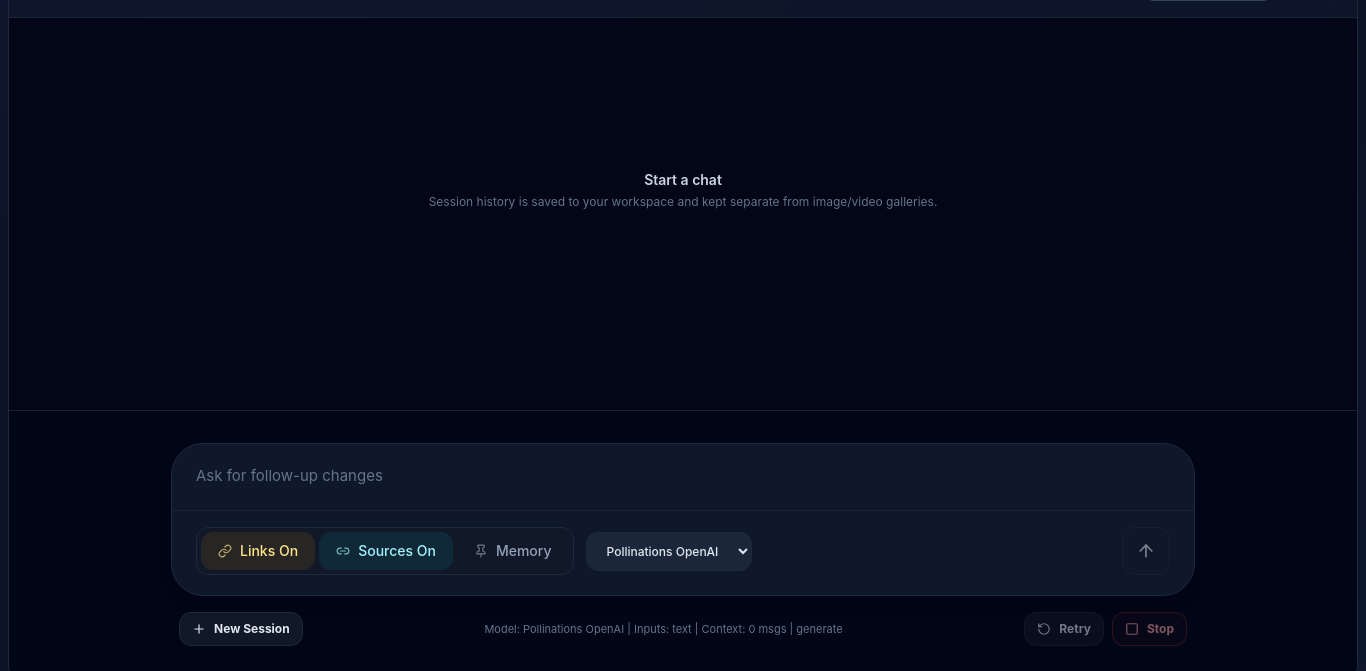
Test: AIChat formatted-response regressions › keeps session switching intact for formatted responses
(page scrolled)
Type "Session prompt" into the text box with placeholder "Ask for follow-up changes" at (683, 474), box left=172, top=444, right=1194, bottom=504
Then press Enter
(page scrolled)
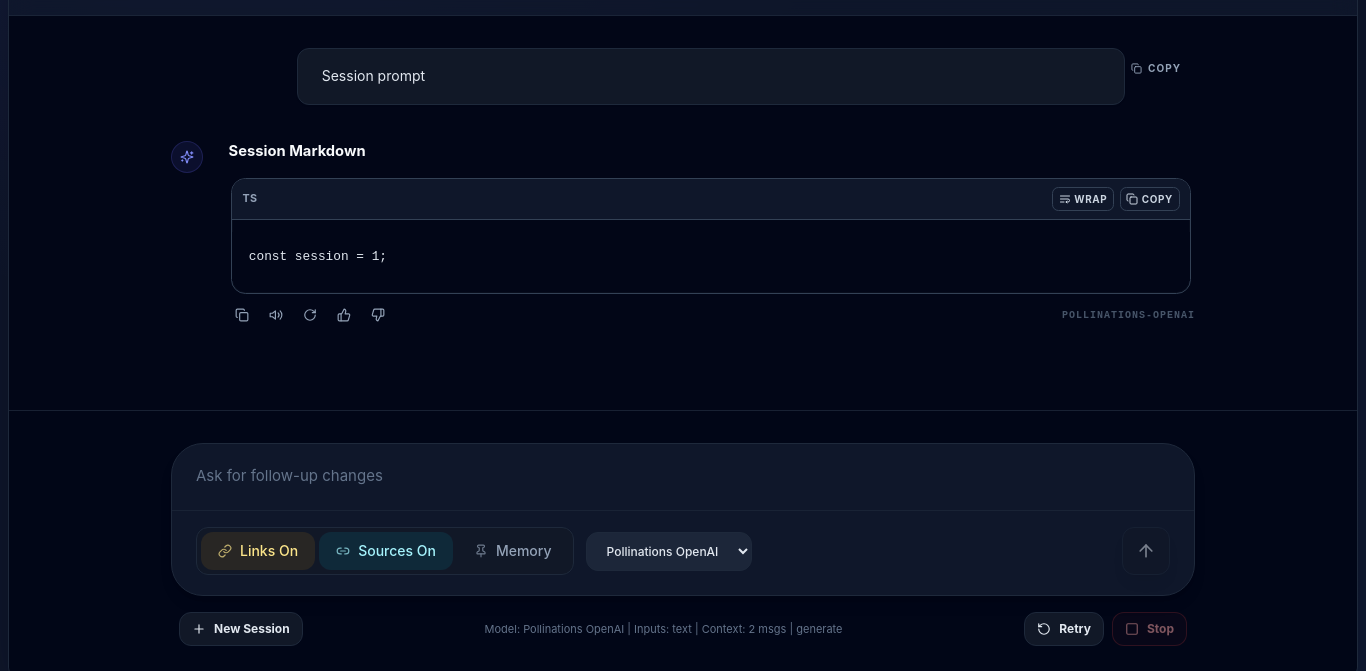
Now the text "Session Markdown" is shown, box left=229, top=142, right=366, bottom=160
Click the button "New Session" at (241, 629), box left=179, top=612, right=303, bottom=646
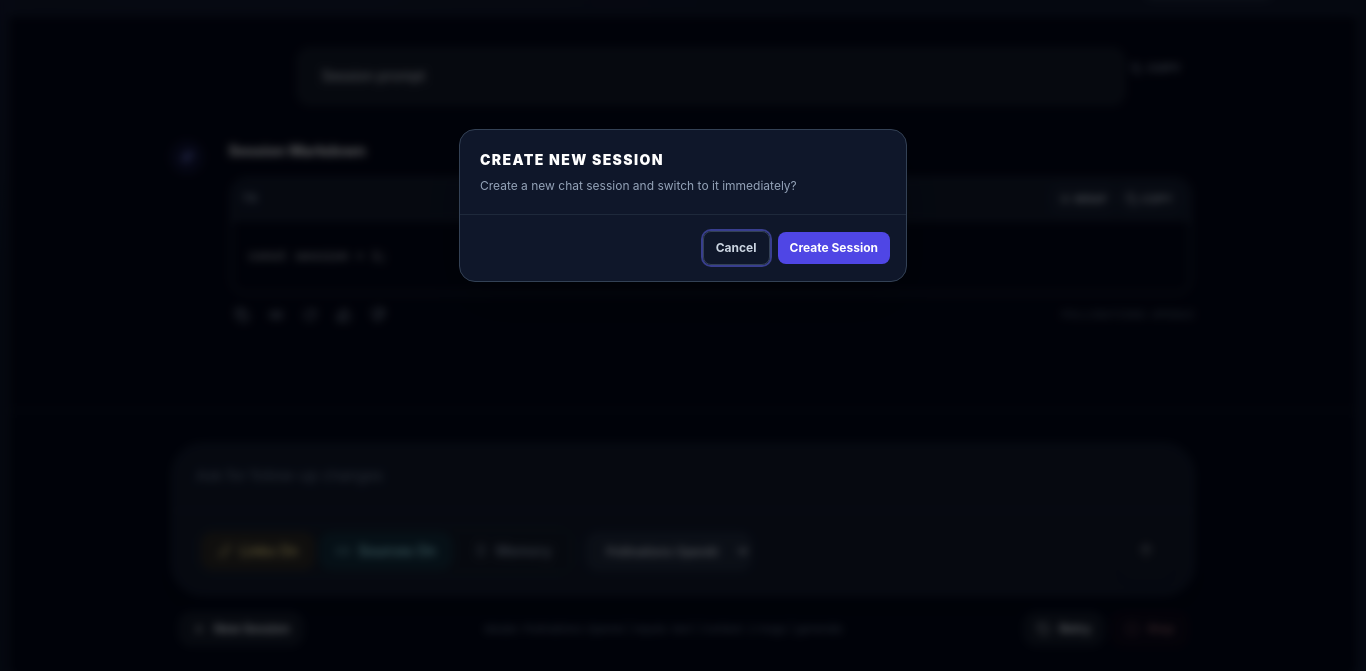
Click the button "Create Session" at (834, 248), box left=778, top=232, right=890, bottom=264
(page scrolled)
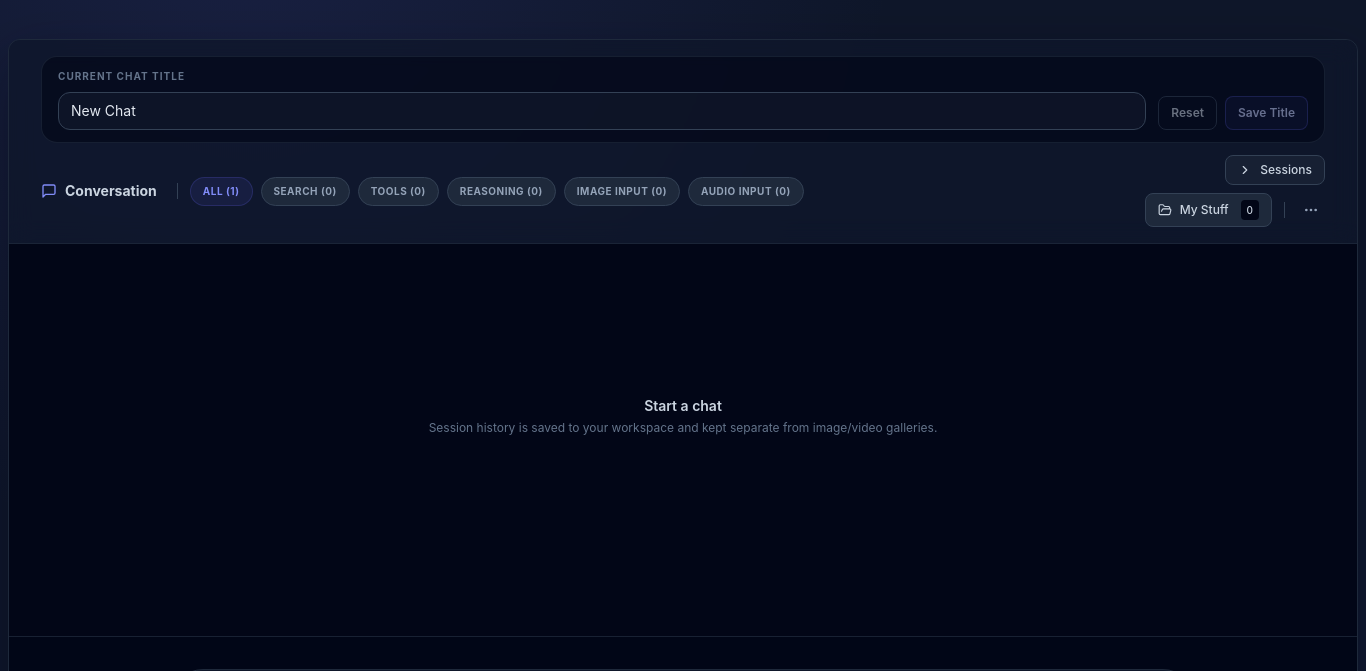
Now the text "Session Markdown" is gone
Click the button titled "Show sessions" at (1275, 170), box left=1225, top=155, right=1325, bottom=185
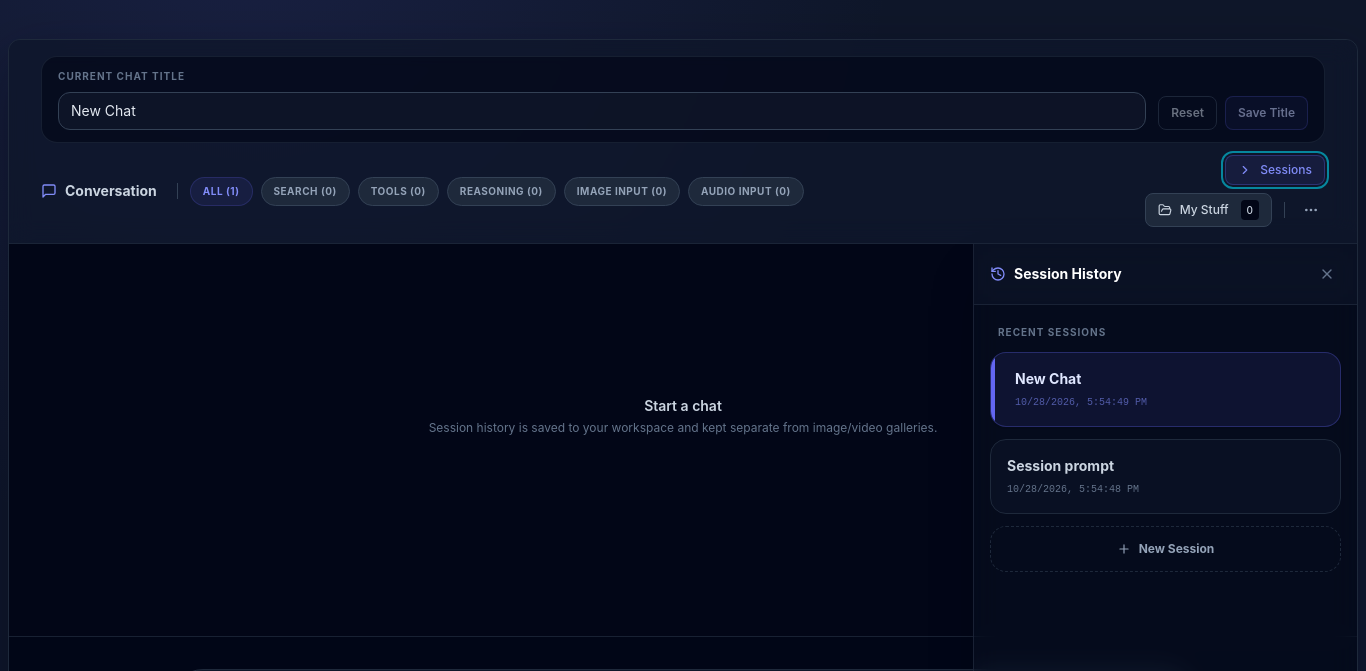
Click the button "Session prompt 10/28/2026, 5:54:48 PM" at (1061, 466), box left=1007, top=456, right=1324, bottom=497
(page scrolled)
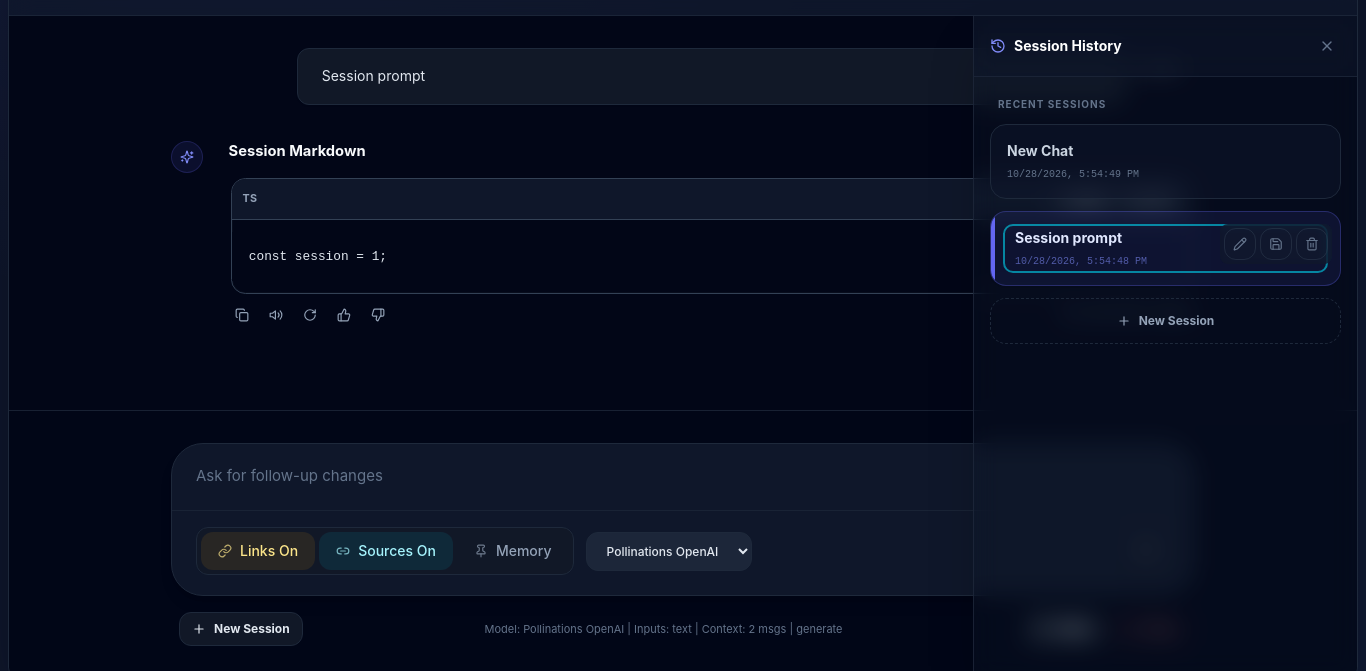
Now the text "Session Markdown" is shown, box left=229, top=142, right=366, bottom=160
